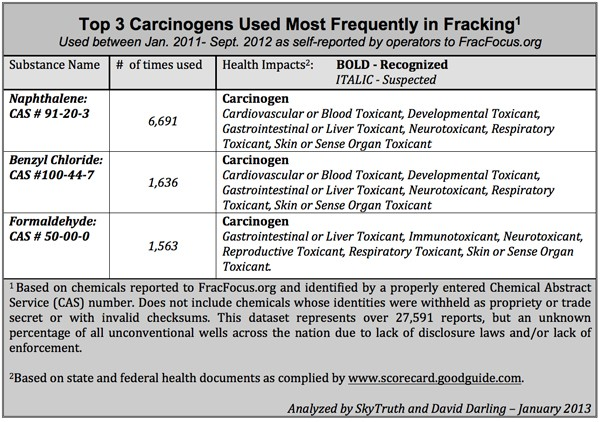fracking table: (4, 4, 596, 281)
